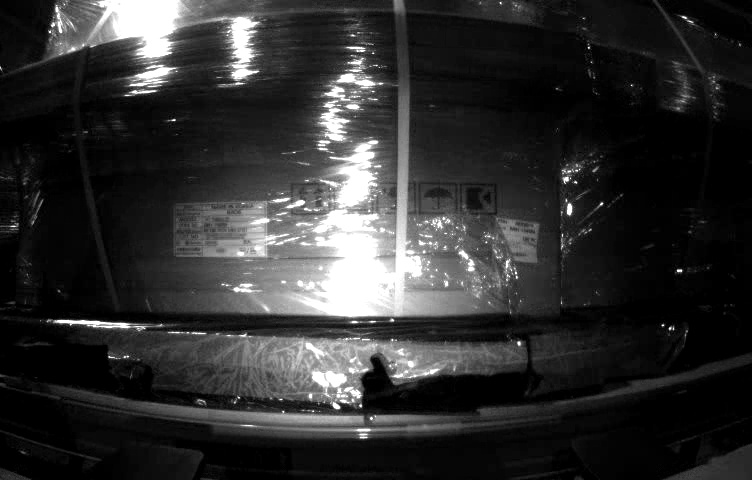True Barcode: (490, 216, 544, 266)
